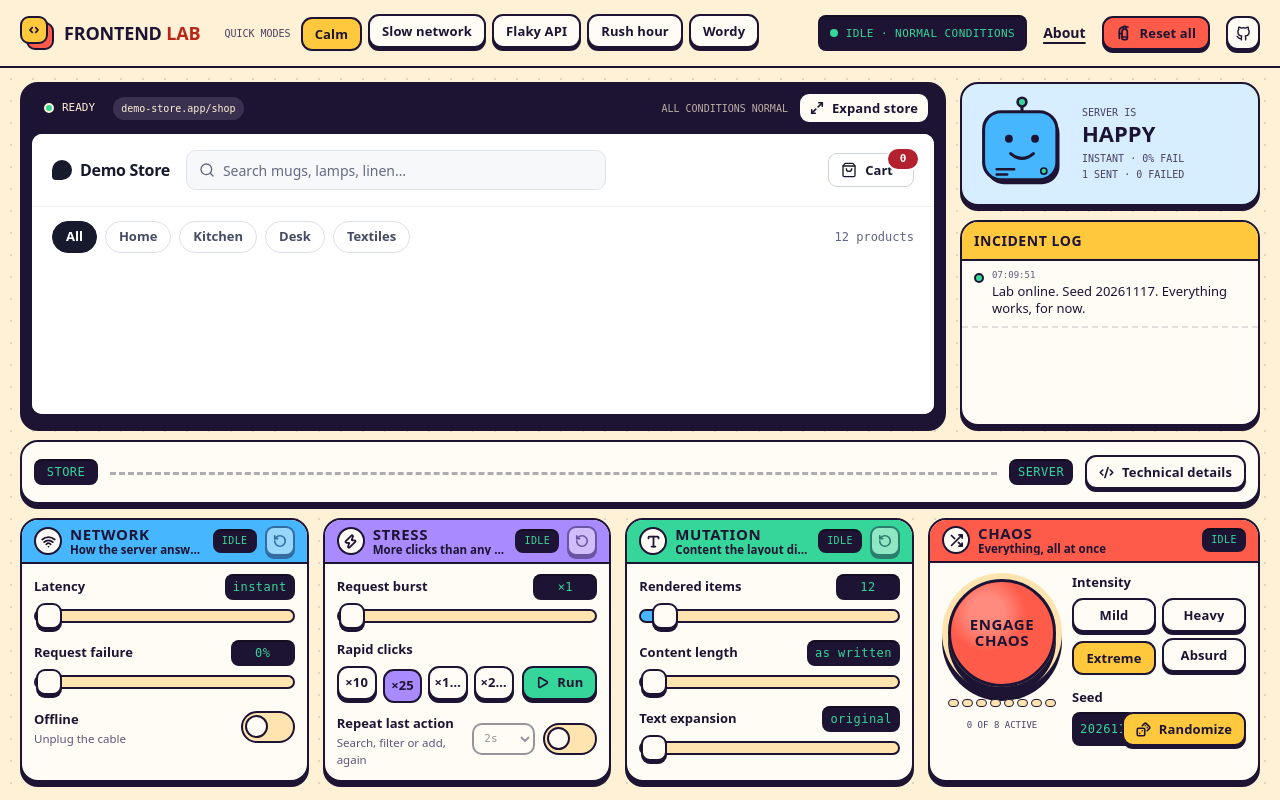
Test: Playground › counts down, engages chaos reproducibly from the seed, and calms down
Later steps or results of the test are not shown.
What coordinates should you click on to do the following:
click the button "Engage chaos"
I would click on:
 (1002, 632)
Its box is [948, 578, 1056, 686].
Wait 1550 ms
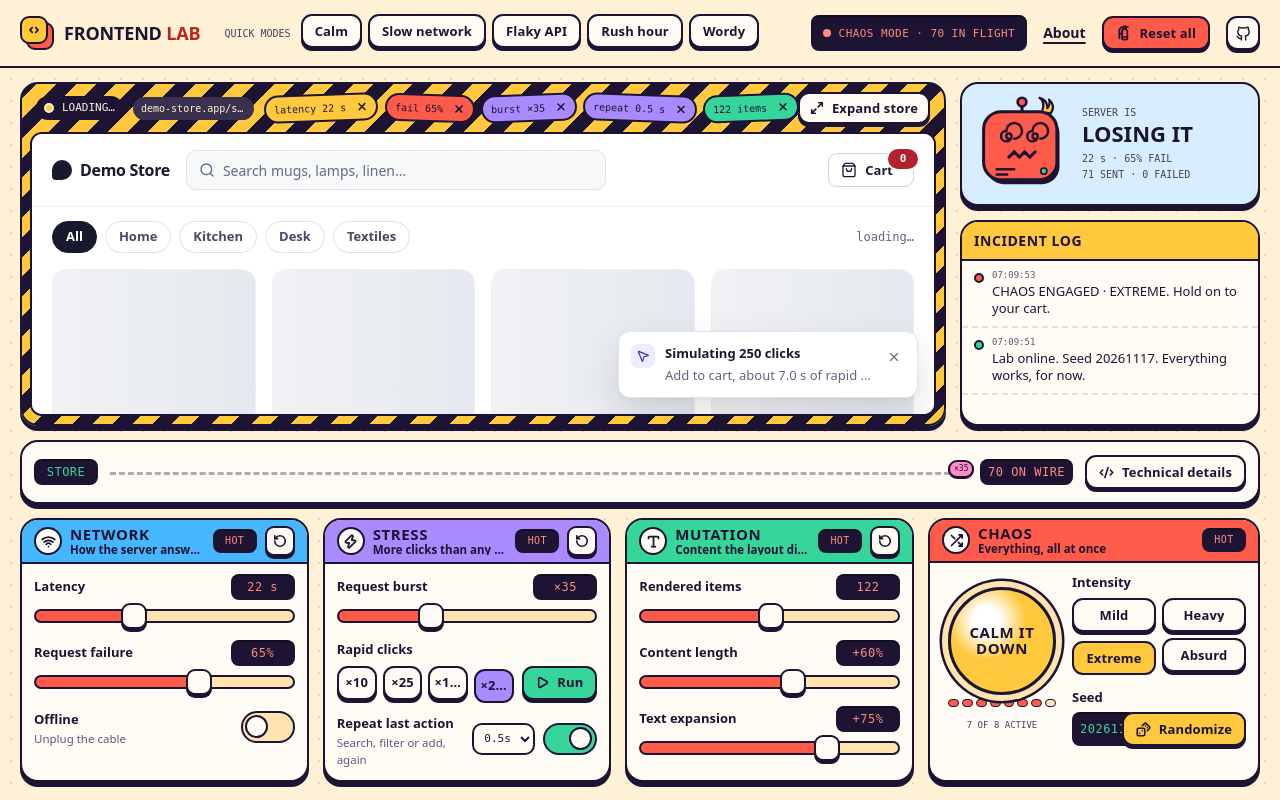
Expected: the message shows "Chaos mode", [839, 26, 1015, 40]
Expected: the picture named "Server mood: losing it" is shown, [974, 96, 1070, 192]
What coordinates should you click on to do the following:
click the button "Calm it down"
I would click on:
 (1002, 640)
Its box is [948, 586, 1056, 694].
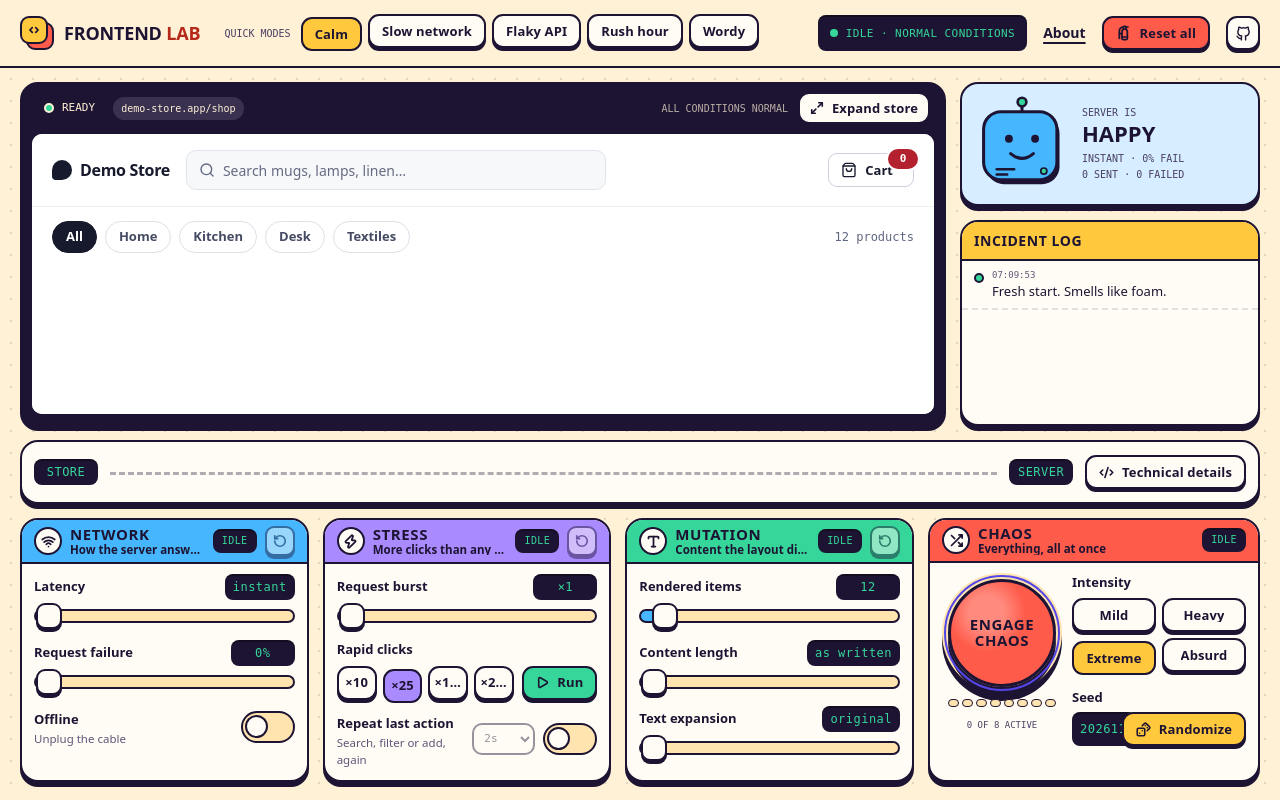
Expected: the message shows "Idle", [846, 26, 1015, 40]
